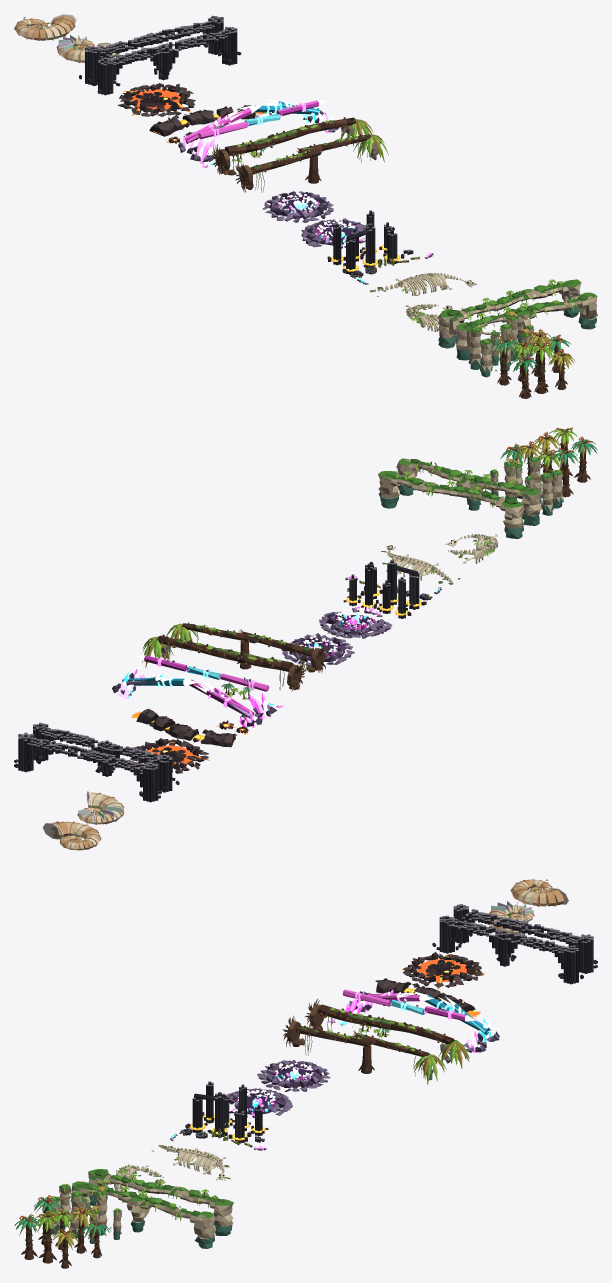
File: set_orutal.glb
3 renders of one model, top to bottom at view 1: azimuth 30°, elevation 25°; view 2: azimuth 150°, elevation 25°; view 3: azimuth 330°, elevation 25°, orthographic.
Visible parts, largest first — view 1: orutal_basalt_arch_1.001, orutal_sea_arch_0.001, orutal_sea_arch_1.001, orutal_fern_log_1.001, orutal_basalt_arch_0.001, orutal_fern_log_0.001, orutal_geode_0.001, orutal_caldera_0.001, orutal_crystal_bridge_1.001, orutal_crystal_bridge_0.001, orutal_hex_gate_1.001, orutal_ammonite_0.001 (+10 smaller); view 2: orutal_sea_arch_0.001, orutal_basalt_arch_0.001, orutal_sea_arch_1.001, orutal_basalt_arch_1.001, orutal_fern_log_0.001, orutal_fern_log_1.001, orutal_crystal_bridge_0.001, orutal_geode_1.001, orutal_crystal_bridge_1.001, orutal_caldera_1.001, orutal_hex_gate_0.001, orutal_geode_0.001 (+8 smaller); view 3: orutal_basalt_arch_1.001, orutal_sea_arch_1.001, orutal_fern_log_1.001, orutal_sea_arch_0.001, orutal_basalt_arch_0.001, orutal_fern_log_0.001, orutal_geode_0.001, orutal_caldera_0.001, orutal_crystal_bridge_1.001, orutal_hex_gate_1.001, orutal_crystal_bridge_0.001, orutal_ammonite_0.001 (+9 smaller).
Boxes of the visible parts, box(x1,y1,x2,y2) form: orutal_basalt_arch_1.001: box(92, 26, 241, 95); orutal_sea_arch_0.001: box(437, 279, 581, 348); orutal_sea_arch_1.001: box(455, 292, 597, 360); orutal_fern_log_1.001: box(235, 134, 388, 192); orutal_basalt_arch_0.001: box(79, 15, 223, 85); orutal_fern_log_0.001: box(211, 117, 373, 175); orutal_geode_0.001: box(262, 191, 333, 222); orutal_caldera_0.001: box(117, 83, 195, 116); orutal_crystal_bridge_1.001: box(190, 100, 338, 163); orutal_crystal_bridge_0.001: box(178, 99, 325, 155); orutal_hex_gate_1.001: box(342, 223, 404, 274); orutal_ammonite_0.001: box(14, 14, 76, 40); orutal_sea_arch_0.001: box(378, 471, 524, 538); orutal_basalt_arch_0.001: box(14, 732, 161, 802); orutal_sea_arch_1.001: box(396, 458, 541, 525); orutal_basalt_arch_1.001: box(33, 722, 179, 792); orutal_fern_log_0.001: box(142, 634, 307, 691); orutal_fern_log_1.001: box(166, 622, 329, 673); orutal_crystal_bridge_0.001: box(112, 672, 262, 727); orutal_geode_1.001: box(319, 606, 392, 638); orutal_crystal_bridge_1.001: box(129, 655, 276, 719); orutal_caldera_1.001: box(131, 708, 236, 747); orutal_hex_gate_0.001: box(343, 563, 411, 618); orutal_geode_0.001: box(281, 633, 354, 666); orutal_basalt_arch_1.001: box(432, 915, 583, 984); orutal_sea_arch_1.001: box(70, 1180, 216, 1248); orutal_fern_log_1.001: box(282, 1015, 446, 1084); orutal_sea_arch_0.001: box(88, 1169, 233, 1235); orutal_basalt_arch_0.001: box(453, 903, 597, 973); orutal_fern_log_0.001: box(304, 999, 469, 1068); orutal_geode_0.001: box(257, 1060, 330, 1091); orutal_caldera_0.001: box(402, 951, 484, 989); orutal_crystal_bridge_1.001: box(342, 989, 486, 1053); orutal_hex_gate_1.001: box(185, 1092, 251, 1143); orutal_crystal_bridge_0.001: box(349, 989, 499, 1042); orutal_ammonite_0.001: box(510, 879, 568, 906).
Size of the model in its own units: 109 by 33.9 by 622.
